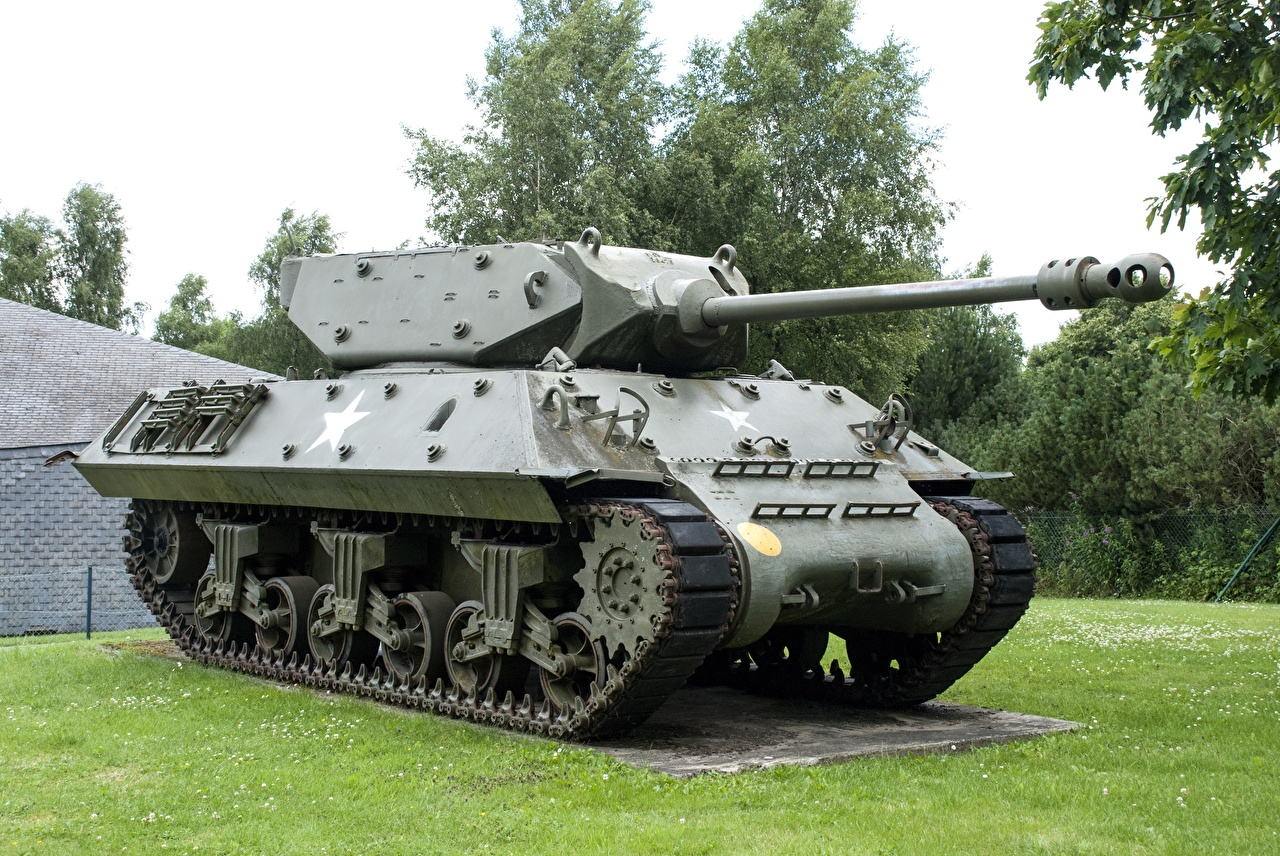tank: (69, 237, 1193, 749)
